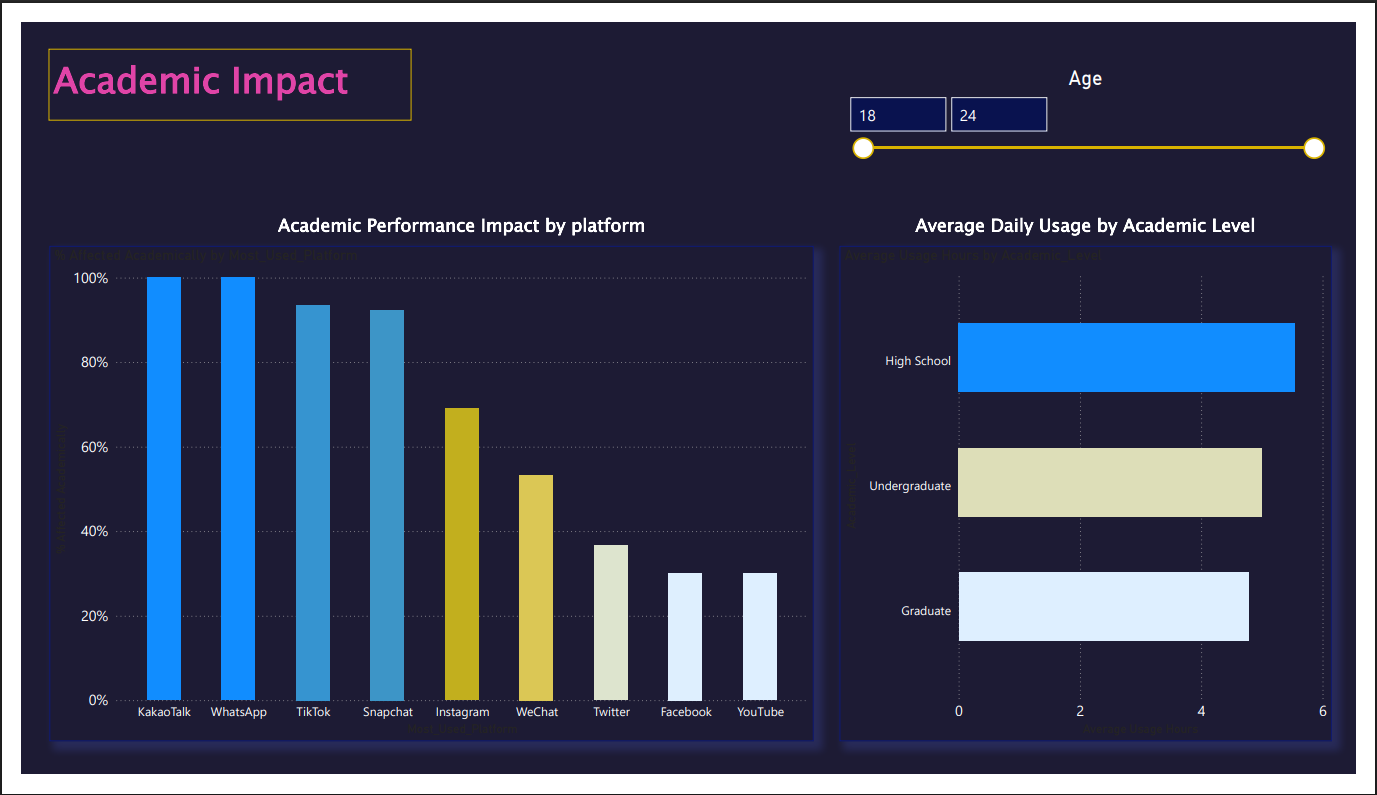

This screenshot's page, from the dashboard's own definition file:
{"tool":"powerbi","page":{"name":"Academic Impact","canvas":[1600,900],"ordinal":3},"visuals":[{"type":"barChart","fields":{"Category":["Student Details.Academic_Level"],"Y":["Student Details.Average Usage Hours"]},"box":[980.8,268.1,590.1,593.4],"z":0},{"type":"columnChart","fields":{"Category":["Platform Details.Most_Used_Platform"],"Y":["Platform Details.% Affected Academically"]},"box":[34.3,268.1,915.4,593.4],"z":1000},{"type":"slicer","title":"Age","fields":{"Values":["Student Details.Age"]},"box":[981,52.9,590,129.4],"z":2000},{"type":"textbox","box":[303.3,222.6,471.7,45.9],"z":3000},{"type":"textbox","box":[1067.3,222.6,471.7,45.9],"z":4000},{"type":"textbox","box":[33.4,32,434.1,86.3],"z":5000}]}

Visuals, with their boxes in screenshot pixels (x1, y1, x2, y2), scaled from the page's 1600x900 canvas onto the 1377x795 screenshot:
barChart - Student Details.Academic_Level x Student Details.Average Usage Hours: x1=844 y1=237 x2=1352 y2=761
columnChart - Platform Details.Most_Used_Platform x Platform Details.% Affected Academically: x1=30 y1=237 x2=817 y2=761
"Age" slicer: x1=844 y1=47 x2=1352 y2=161
textbox: x1=261 y1=197 x2=667 y2=237
textbox: x1=919 y1=197 x2=1325 y2=237
textbox: x1=29 y1=28 x2=402 y2=104
